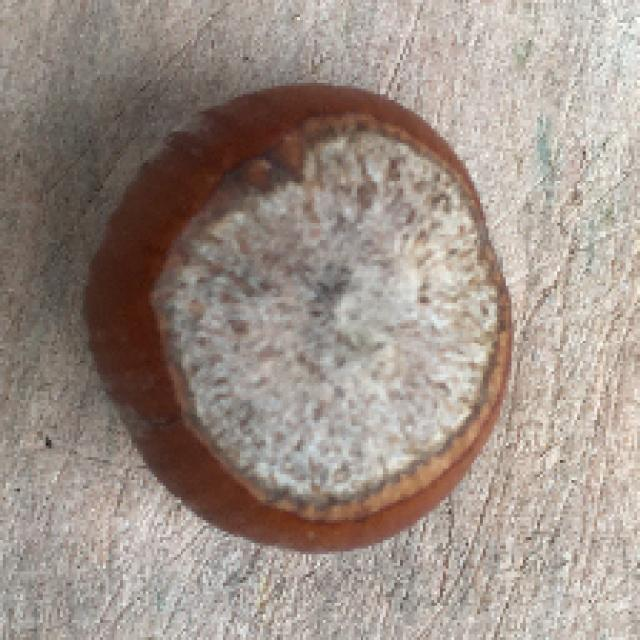qualityHazelnut: (75, 77, 521, 559)
